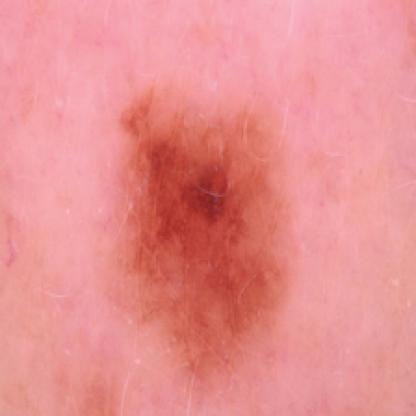benign: (113, 89, 288, 338)
